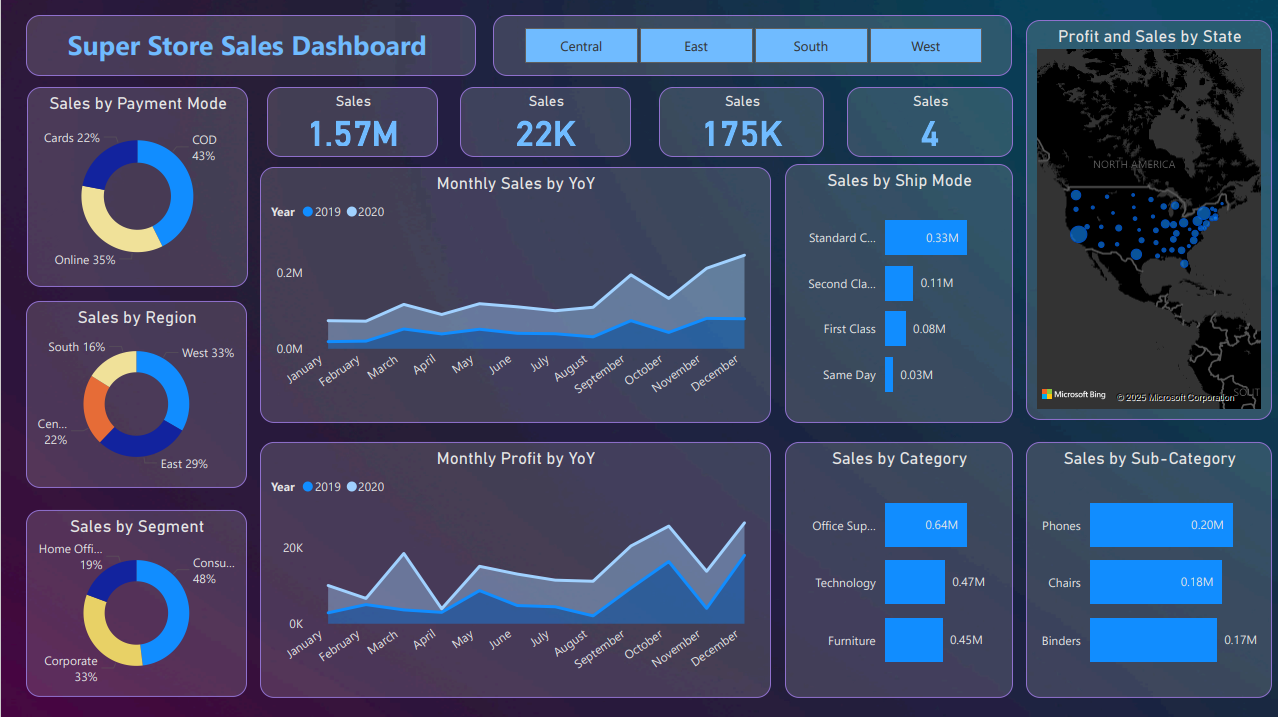

This screenshot's page, from the dashboard's own definition file:
{"tool":"powerbi","page":{"name":"BI Overview","canvas":[1280,720],"ordinal":0},"visuals":[{"type":"clusteredBarChart","title":"Sales by Sub-Category","fields":{"Category":["SuperStore_Sales_Dataset (3).Sub-Category"],"Y":["Sum(SuperStore_Sales_Dataset (3).Sales)"]},"box":[1025.2,441.6,246.1,255.8],"z":0},{"type":"clusteredBarChart","title":"Sales by Ship Mode","fields":{"Category":["SuperStore_Sales_Dataset (3).Ship Mode"],"Y":["Sum(SuperStore_Sales_Dataset (3).Sales)"]},"box":[784,164.4,227.6,258.7],"z":1000},{"type":"stackedAreaChart","title":"Monthly Sales by YoY","fields":{"Category":["SuperStore_Sales_Dataset (3.Order Date.Variation.Date Hierarchy.Month","SuperStore_Sales_Dataset (3.Order Date.Variation.Date Hierarchy.Day"],"Y":["Sum(SuperStore_Sales_Dataset (3.Sales)"],"Series":["SuperStore_Sales_Dataset (3.Order Date.Variation.Date Hierarchy.Year"]},"box":[258.7,167.3,510.6,255.8],"z":2000},{"type":"clusteredBarChart","title":"Sales by Category","fields":{"Category":["SuperStore_Sales_Dataset (3).Category"],"Y":["Sum(SuperStore_Sales_Dataset (3).Sales)"]},"box":[784,441.6,227.6,255.8],"z":3000},{"type":"map","title":"Profit and Sales by State","fields":{"Category":["SuperStore_Sales_Dataset (3).State"],"Size":["Sum(SuperStore_Sales_Dataset (3).Sales)"]},"box":[1025.2,20.4,246.1,399.8],"z":4000},{"type":"donutChart","title":"Sales by Segment","fields":{"Category":["SuperStore_Sales_Dataset (3).Segment"],"Y":["Sum(SuperStore_Sales_Dataset (3).Sales)"]},"box":[24.8,509.9,220.8,187.1],"z":5000},{"type":"donutChart","title":"Sales by Payment Mode","fields":{"Category":["SuperStore_Sales_Dataset (3).Payment Mode"],"Y":["Sum(SuperStore_Sales_Dataset (3).Sales)"]},"box":[25.7,86.9,220.8,199.5],"z":6000},{"type":"slicer","fields":{"Values":["SuperStore_Sales_Dataset (3).Region"]},"box":[492.2,14.6,519.4,61.3],"z":7000},{"type":"textbox","box":[25.3,14.6,450.3,61.3],"z":8000},{"type":"card","title":"Sales","fields":{"Values":["Sum(SuperStore_Sales_Dataset (3).Sales)"]},"box":[265.5,86.6,171.2,70],"z":9000},{"type":"donutChart","title":"Sales by Region","fields":{"Category":["SuperStore_Sales_Dataset (3).Region"],"Y":["Sum(SuperStore_Sales_Dataset (3).Sales)"]},"box":[24.8,301.5,220.8,187.1],"z":10000},{"type":"card","title":"Sales","fields":{"Values":["Sum(SuperStore_Sales_Dataset (3.Quantity)"]},"box":[459.1,86.6,171.2,70],"z":11000},{"type":"card","title":"Sales","fields":{"Values":["Sum(SuperStore_Sales_Dataset (3.Profit)"]},"box":[658.5,86.6,165.3,70],"z":12000},{"type":"stackedAreaChart","title":"Monthly Profit by YoY","fields":{"Category":["SuperStore_Sales_Dataset (3.Order Date.Variation.Date Hierarchy.Month","SuperStore_Sales_Dataset (3.Order Date.Variation.Date Hierarchy.Day"],"Series":["SuperStore_Sales_Dataset (3.Order Date.Variation.Date Hierarchy.Year"],"Y":["Sum(SuperStore_Sales_Dataset (3.Profit)"]},"box":[258.7,441.6,510.6,255.8],"z":13000},{"type":"card","title":"Sales","fields":{"Values":["Avg(SuperStore_Sales_Dataset (3.AvgDelivery)"]},"box":[845.9,86.9,165.8,70],"z":14000}]}

Visuals, with their boxes in screenshot pixels (x1, y1, x2, y2), scaled from the page's 1280x720 canvas onto the 1278x717 screenshot:
"Sales by Sub-Category" clusteredBarChart: BBox(1024, 440, 1269, 694)
"Sales by Ship Mode" clusteredBarChart: BBox(783, 164, 1010, 421)
"Monthly Sales by YoY" stackedAreaChart: BBox(258, 167, 768, 421)
"Sales by Category" clusteredBarChart: BBox(783, 440, 1010, 694)
"Profit and Sales by State" map: BBox(1024, 20, 1269, 418)
"Sales by Segment" donutChart: BBox(25, 508, 245, 694)
"Sales by Payment Mode" donutChart: BBox(26, 87, 246, 285)
slicer - SuperStore_Sales_Dataset (3).Region: BBox(491, 15, 1010, 76)
textbox: BBox(25, 15, 475, 76)
"Sales" card: BBox(265, 86, 436, 156)
"Sales by Region" donutChart: BBox(25, 300, 245, 487)
"Sales" card: BBox(458, 86, 629, 156)
"Sales" card: BBox(657, 86, 823, 156)
"Monthly Profit by YoY" stackedAreaChart: BBox(258, 440, 768, 694)
"Sales" card: BBox(845, 87, 1010, 156)
